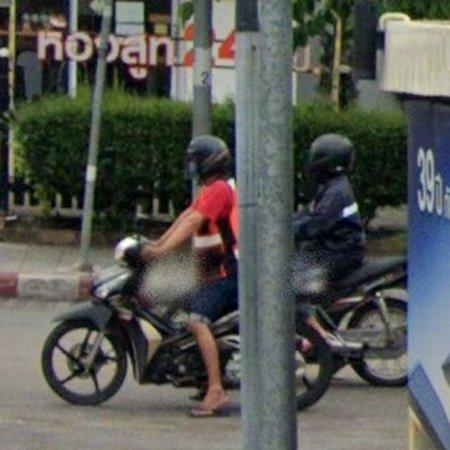motorcycles: (39, 234, 334, 422), (291, 258, 408, 385)
